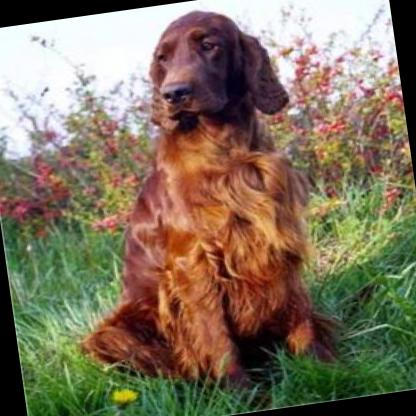Irish_setter: (34, 0, 344, 416)
